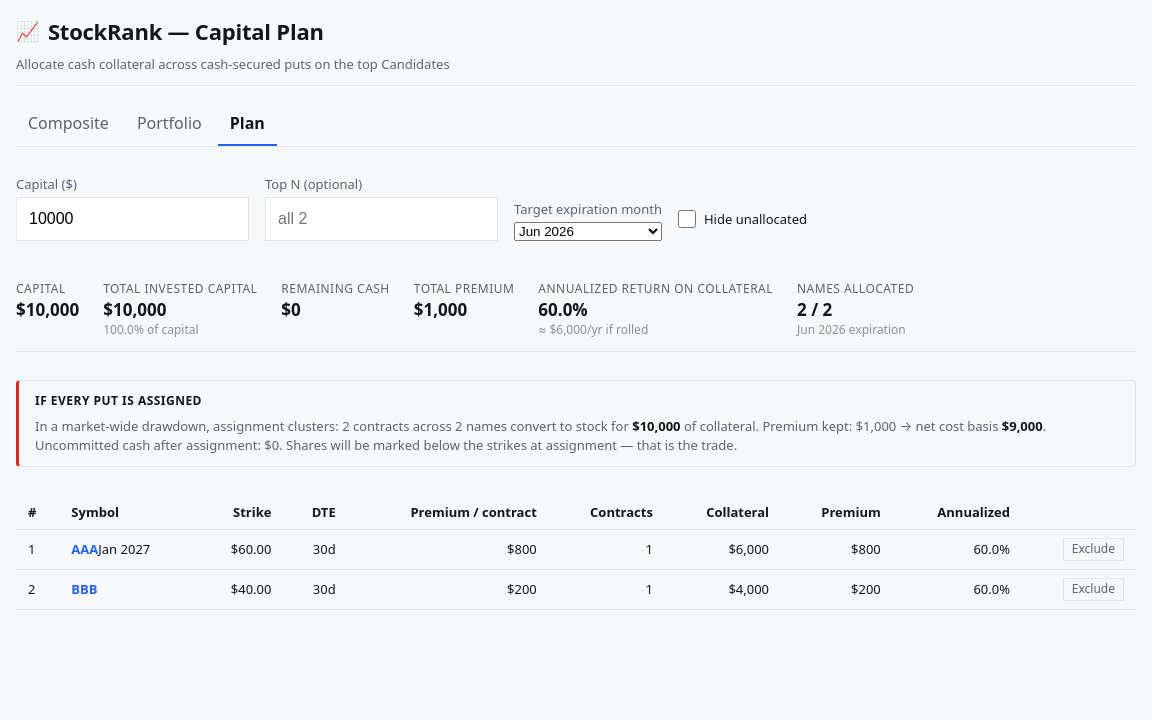
Scenario: <CapitalPlanScreen /> › switches candidates when the target month changes
Select "Jun 2026" in the dropdown labelled "Target expiration month": (588, 232) left=514, top=222, right=662, bottom=241
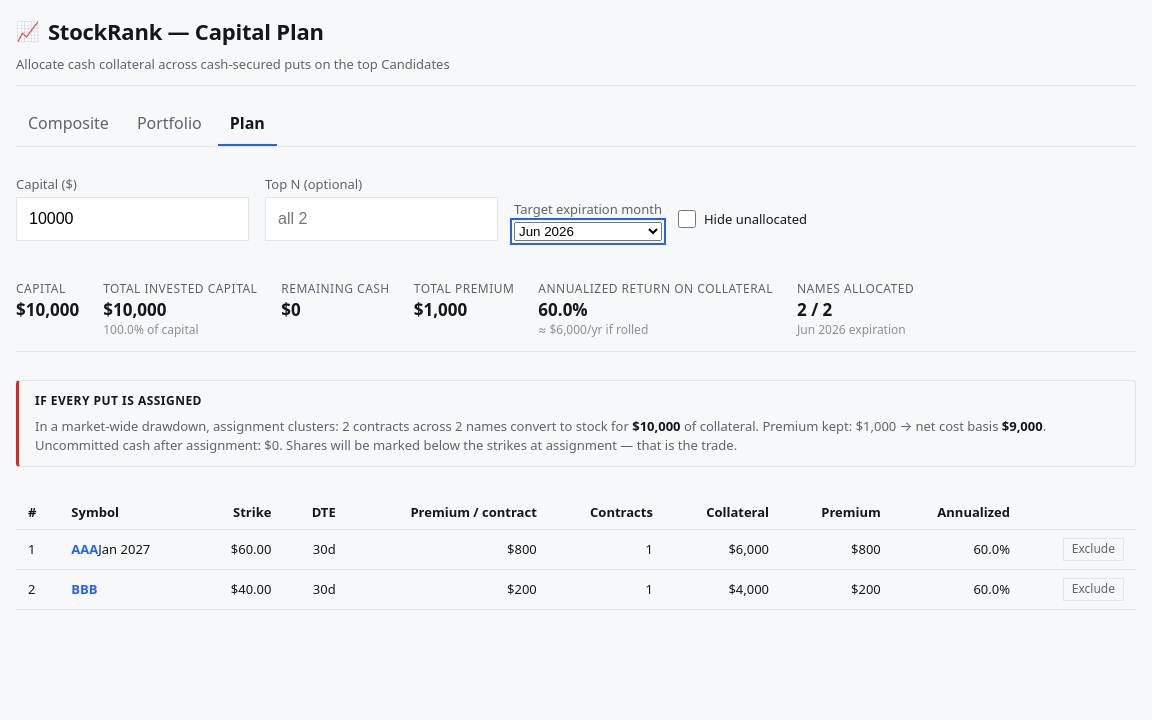
expect the button "BBB" is shown: met, box left=71, top=580, right=98, bottom=598
expect the button "AAA" is shown: met, box left=71, top=540, right=98, bottom=558
Select "Jan 2027" in the dropdown labelled "Target expiration month": (588, 232) left=514, top=222, right=662, bottom=241
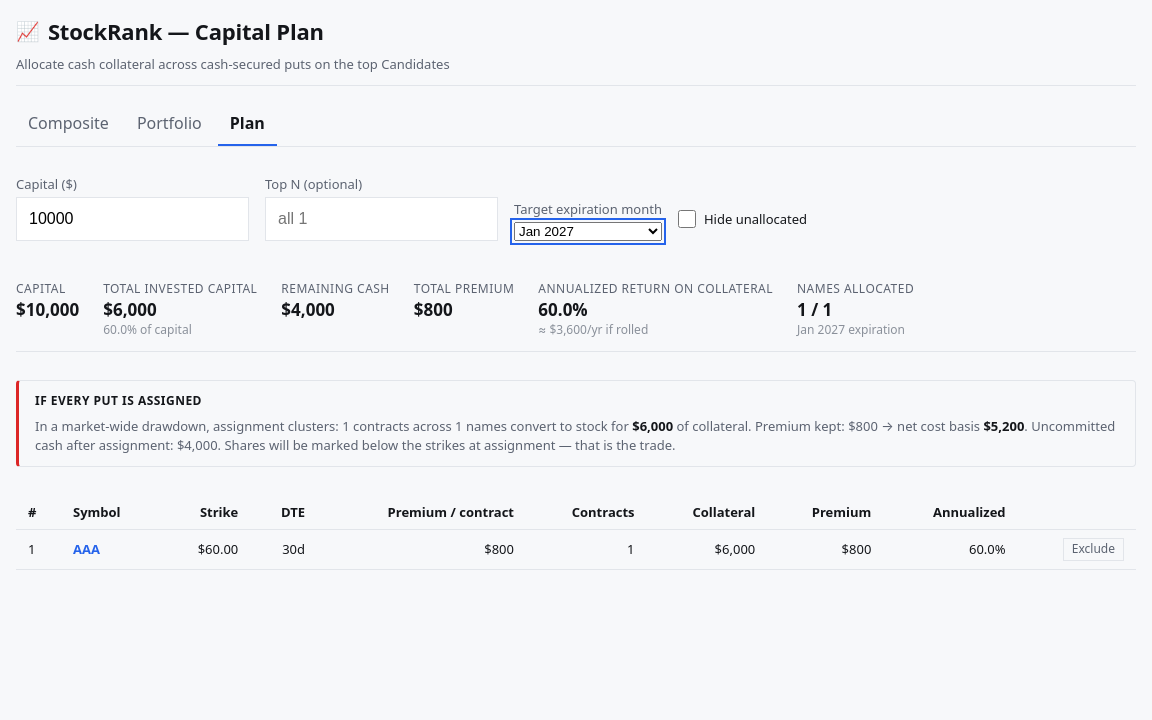
expect the button "AAA" is shown: met, box left=73, top=540, right=100, bottom=558
expect the button "BBB" is gone: met
